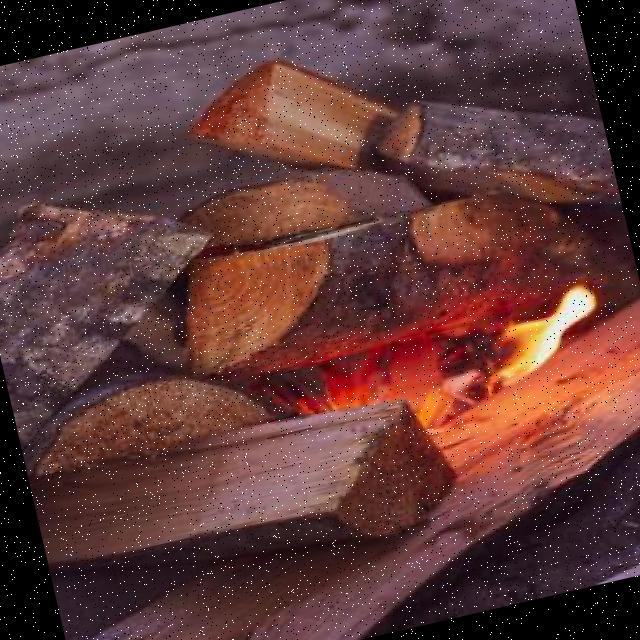fire: (468, 272, 630, 410)
